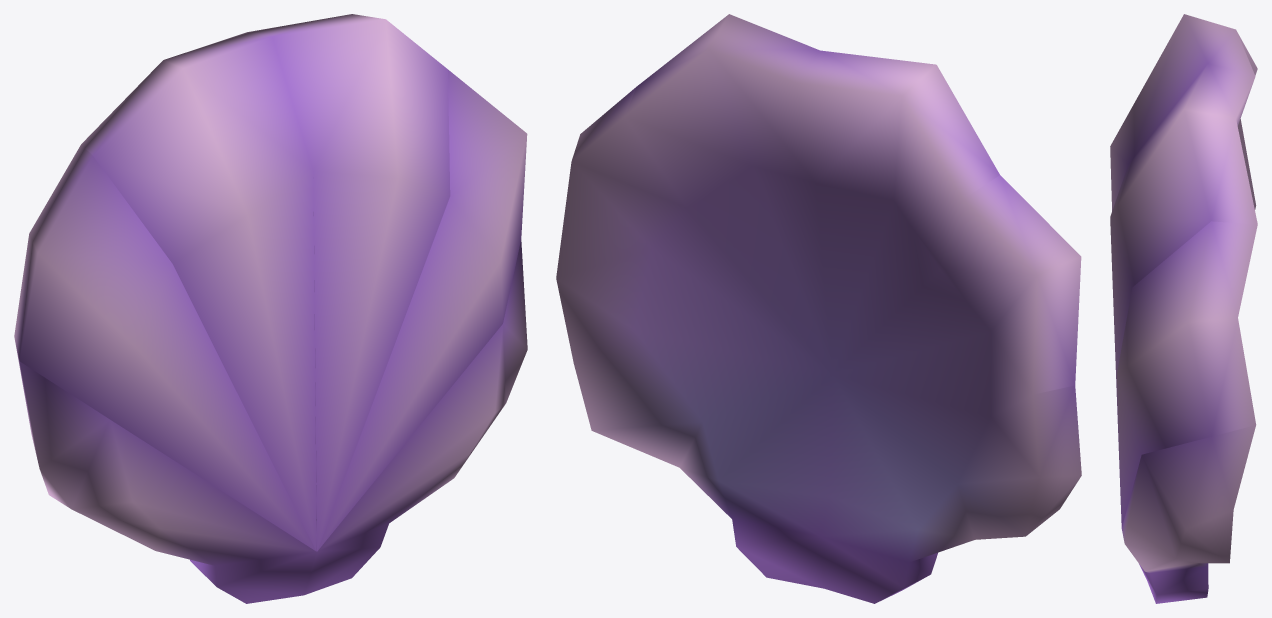
Rendered from Fbx_Seashell.fbx.
The picture shows the model from 3 angles, left to right: view 1: azimuth 30°, elevation 25°; view 2: azimuth 150°, elevation 25°; view 3: azimuth 270°, elevation 25°; orthographic projection. The views are drawn at different scales.
Parts seen in each view (by area): view 1: Circle; view 2: Circle; view 3: Circle.
Part boxes in pixels (x1=…): Circle: x1=14, y1=14, x2=527, y2=603; Circle: x1=556, y1=14, x2=1081, y2=603; Circle: x1=1110, y1=14, x2=1257, y2=603.
Bounding box in the file's own units: 0.7253 × 0.7422 × 0.1917.
